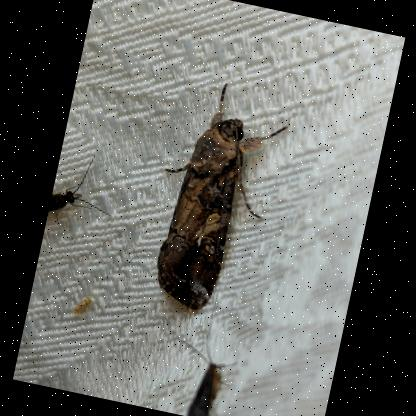Fall Armyworm Moth: (132, 69, 300, 326)
